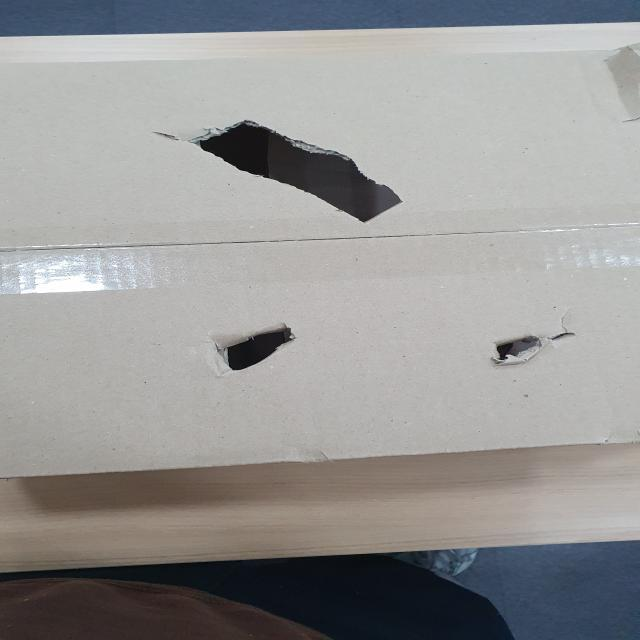hole: (159, 108, 409, 226), (196, 319, 312, 361), (478, 322, 588, 360)
